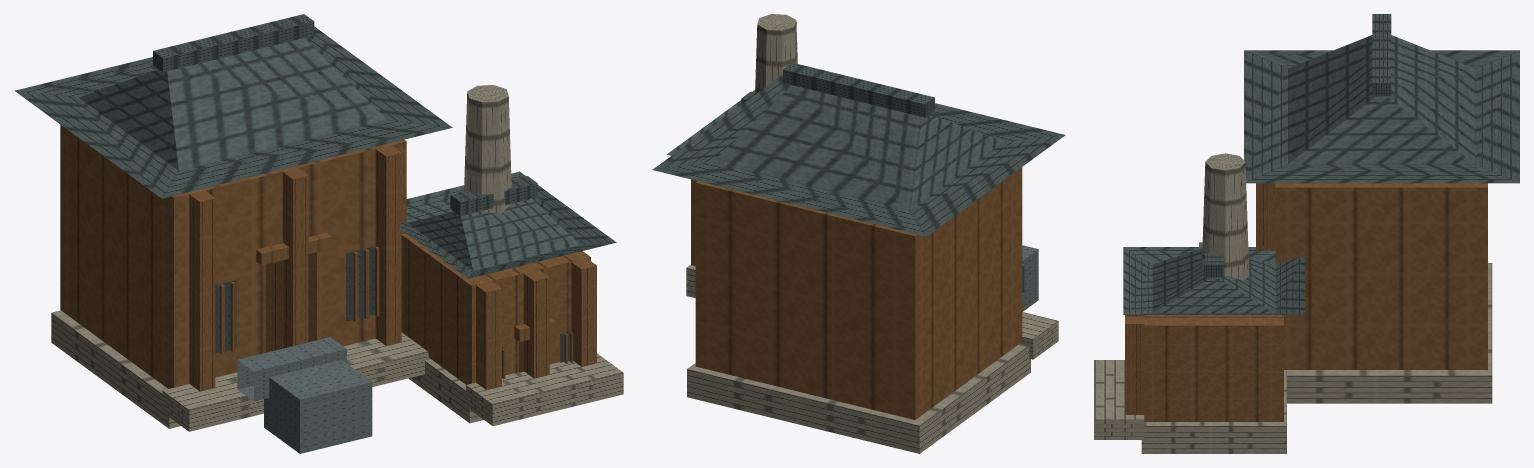
Rendered from domestic-SMITH-2-lod0.glb.
3 views of the same model, side by side, from view 1: azimuth 30°, elevation 25°; view 2: azimuth 150°, elevation 25°; view 3: azimuth 270°, elevation 25° (orthographic). The views are drawn at different scales.
Bounding box in the file's own units: 0.755 × 0.6 × 0.762.
Materials: 1 (1 with a texture image).
